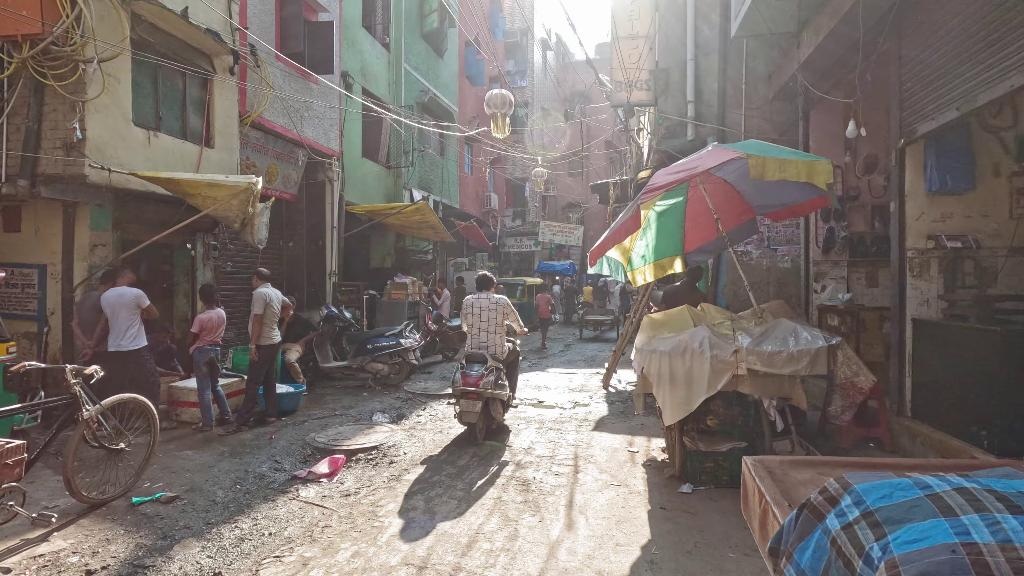garbage: (291, 451, 348, 481), (132, 494, 179, 503), (678, 481, 695, 495)
